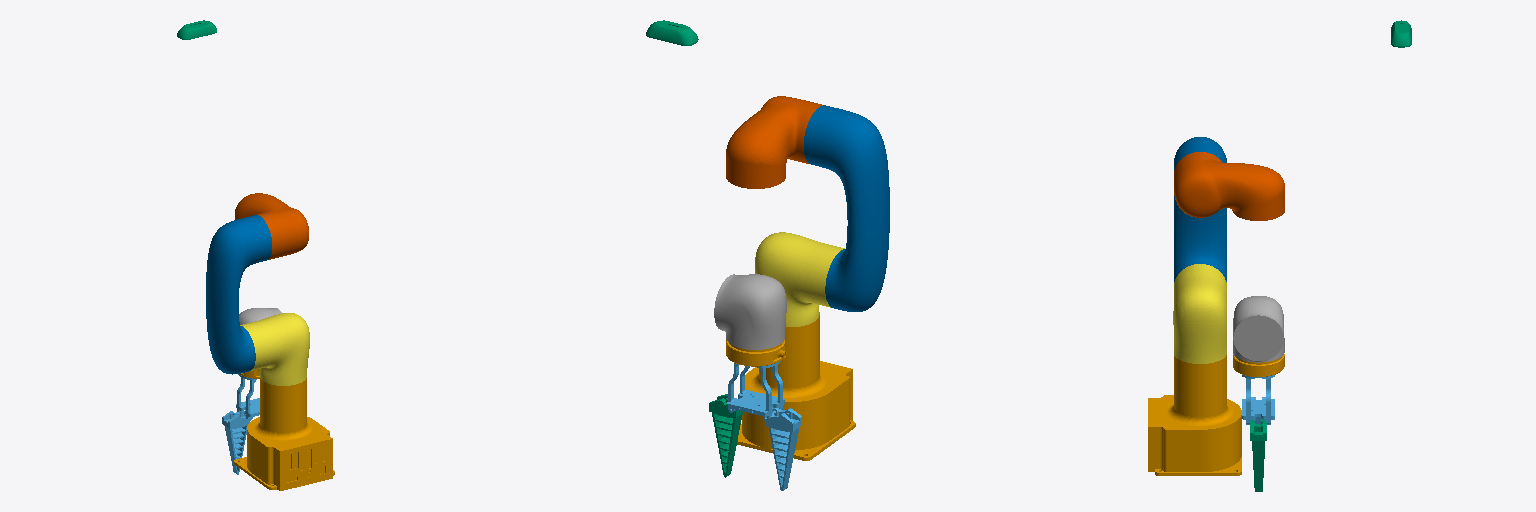
URDF robot description (lite_6_robotarm):
<?xml version="1.0" ?>
<robot name="lite_6_robotarm">

<material name="silver">
  <color rgba="0.700 0.700 0.700 1.000"/>
</material>

<link name="base_link">
  <inertial>
    <origin xyz="-1.4819862268024002e-06 -0.00020774933500536933 0.06315172999266203" rpy="0 0 0"/>
    <mass value="12.96819491810422"/>
    <inertia ixx="0.04245115685707855" iyy="0.03958711946350989" izz="0.026256756827603374" ixy="-1.3246006420518412e-06" iyz="-0.002653322519647819" ixz="-6.396562934922565e-07"/>
  </inertial>
  <visual>
    <origin xyz="0 0 0" rpy="0 0 0"/>
    <geometry>
      <mesh filename="meshes/base_link.stl" scale="0.001 0.001 0.001"/>
    </geometry>
    <material name="silver"/>
    <material/>
  </visual>
  <collision>
    <origin xyz="0 0 0" rpy="0 0 0"/>
    <geometry>
      <mesh filename="meshes/base_link.stl" scale="0.001 0.001 0.001"/>
    </geometry>
  </collision>
</link>

<link name="left_finger1">
  <inertial>
    <origin xyz="-0.016649755589227728 0.011001870239480141 -0.02841150300648422" rpy="0 0 0"/>
    <mass value="0.19713513253030895"/>
    <inertia ixx="0.00015875463919208608" iyy="0.00017136843527207574" izz="3.081441906987179e-05" ixy="4.222201108704249e-09" iyz="-8.24694043664951e-09" ixz="-1.4291502258722178e-06"/>
  </inertial>
  <visual>
    <origin xyz="0.0258 -0.083983 -0.07189" rpy="0 0 0"/>
    <geometry>
      <mesh filename="meshes/left_finger1.stl" scale="0.001 0.001 0.001"/>
    </geometry>
    <material name="silver"/>
    <material/>
  </visual>
  <collision>
    <origin xyz="0.0258 -0.083983 -0.07189" rpy="0 0 0"/>
    <geometry>
      <mesh filename="meshes/left_finger1.stl" scale="0.001 0.001 0.001"/>
    </geometry>
  </collision>
</link>

<link name="right_finger1">
  <inertial>
    <origin xyz="0.016649736524671027 0.010999040184855674 -0.02841150300648429" rpy="0 0 0"/>
    <mass value="0.19713513253031012"/>
    <inertia ixx="0.00015875463919208738" iyy="0.00017136843527207682" izz="3.081441906987222e-05" ixy="4.222201108487408e-09" iyz="8.24694043654109e-09" ixz="1.4291502258720551e-06"/>
  </inertial>
  <visual>
    <origin xyz="-0.0262 -0.083983 -0.07189" rpy="0 0 0"/>
    <geometry>
      <mesh filename="meshes/right_finger1.stl" scale="0.001 0.001 0.001"/>
    </geometry>
    <material name="silver"/>
    <material/>
  </visual>
  <collision>
    <origin xyz="-0.0262 -0.083983 -0.07189" rpy="0 0 0"/>
    <geometry>
      <mesh filename="meshes/right_finger1.stl" scale="0.001 0.001 0.001"/>
    </geometry>
  </collision>
</link>

<link name="link_21">
  <inertial>
    <origin xyz="-0.015123860071906185 2.5593691362589543e-06 0.05792607647334416" rpy="0 0 0"/>
    <mass value="6.037125676328531"/>
    <inertia ixx="0.007409450913407611" iyy="0.01105711269112808" izz="0.008596428432760296" ixy="-1.703390557602786e-06" iyz="-1.7606027186162915e-06" ixz="0.0012333184030674585"/>
  </inertial>
  <visual>
    <origin xyz="-0.0 -0.008 -0.173" rpy="0 0 0"/>
    <geometry>
      <mesh filename="meshes/link_21.stl" scale="0.001 0.001 0.001"/>
    </geometry>
    <material name="silver"/>
    <material/>
  </visual>
  <collision>
    <origin xyz="-0.0 -0.008 -0.173" rpy="0 0 0"/>
    <geometry>
      <mesh filename="meshes/link_21.stl" scale="0.001 0.001 0.001"/>
    </geometry>
  </collision>
</link>

<link name="link_31">
  <inertial>
    <origin xyz="-0.024766771950062688 -1.6220963948779255e-08 0.11471132098630415" rpy="0 0 0"/>
    <mass value="8.450151606335128"/>
    <inertia ixx="0.0586124956243681" iyy="0.05987853616620131" izz="0.007960376393872759" ixy="1.6612289243864153e-09" iyz="7.127192395289805e-09" ixz="-0.005489820855790861"/>
  </inertial>
  <visual>
    <origin xyz="0.078 -0.008 -0.243" rpy="0 0 0"/>
    <geometry>
      <mesh filename="meshes/link_31.stl" scale="0.001 0.001 0.001"/>
    </geometry>
    <material name="silver"/>
    <material/>
  </visual>
  <collision>
    <origin xyz="0.078 -0.008 -0.243" rpy="0 0 0"/>
    <geometry>
      <mesh filename="meshes/link_31.stl" scale="0.001 0.001 0.001"/>
    </geometry>
  </collision>
</link>

<link name="link_41">
  <inertial>
    <origin xyz="0.04266107113703172 0.07195926329740293 -0.0011071877313075795" rpy="0 0 0"/>
    <mass value="3.1266058733611786"/>
    <inertia ixx="0.004216497892854831" iyy="0.0025925805332278617" izz="0.004432592057271385" ixy="-0.0006145655473512936" iyz="0.0004038169742403702" ixz="-3.480702166943359e-05"/>
  </inertial>
  <visual>
    <origin xyz="0.045 -0.008 -0.443" rpy="0 0 0"/>
    <geometry>
      <mesh filename="meshes/link_41.stl" scale="0.001 0.001 0.001"/>
    </geometry>
    <material name="silver"/>
    <material/>
  </visual>
  <collision>
    <origin xyz="0.045 -0.008 -0.443" rpy="0 0 0"/>
    <geometry>
      <mesh filename="meshes/link_41.stl" scale="0.001 0.001 0.001"/>
    </geometry>
  </collision>
</link>

<link name="link_51">
  <inertial>
    <origin xyz="0.02518806394514212 -5.202933294479184e-07 -0.09770534814377974" rpy="0 0 0"/>
    <mass value="9.415324412121745"/>
    <inertia ixx="0.03174606440787653" iyy="0.03899306351965948" izz="0.015081744665439559" ixy="2.2377047716529153e-07" iyz="-1.847902088569775e-07" ixz="0.01035372451802729"/>
  </inertial>
  <visual>
    <origin xyz="0.0003 -0.095 -0.408" rpy="0 0 0"/>
    <geometry>
      <mesh filename="meshes/link_51.stl" scale="0.001 0.001 0.001"/>
    </geometry>
    <material name="silver"/>
    <material/>
  </visual>
  <collision>
    <origin xyz="0.0003 -0.095 -0.408" rpy="0 0 0"/>
    <geometry>
      <mesh filename="meshes/link_51.stl" scale="0.001 0.001 0.001"/>
    </geometry>
  </collision>
</link>

<link name="link_61">
  <inertial>
    <origin xyz="-0.03808287255784253 2.18282484643062e-07 -0.0016448277556807278" rpy="0 0 0"/>
    <mass value="3.198235745543407"/>
    <inertia ixx="0.002815447770259466" iyy="0.0029866862987641685" izz="0.002626395753246802" ixy="1.3494393247899701e-08" iyz="-1.5062826264067297e-09" ixz="-4.928553672503685e-05"/>
  </inertial>
  <visual>
    <origin xyz="-0.041217 -0.094983 -0.21589" rpy="0 0 0"/>
    <geometry>
      <mesh filename="meshes/link_61.stl" scale="0.001 0.001 0.001"/>
    </geometry>
    <material name="silver"/>
    <material/>
  </visual>
  <collision>
    <origin xyz="-0.041217 -0.094983 -0.21589" rpy="0 0 0"/>
    <geometry>
      <mesh filename="meshes/link_61.stl" scale="0.001 0.001 0.001"/>
    </geometry>
  </collision>
</link>

<link name="link_71">
  <inertial>
    <origin xyz="0.00012991172119495537 -6.044617565784116e-05 -0.011116005669908113" rpy="0 0 0"/>
    <mass value="0.6627466143452483"/>
    <inertia ixx="0.00028716382427402404" iyy="0.0002850704520966363" izz="0.0005151451067073685" ixy="-2.3262996892472998e-07" iyz="-4.842404329047367e-07" ixz="2.8539443565770084e-07"/>
  </inertial>
  <visual>
    <origin xyz="-0.0002 -0.094983 -0.17489" rpy="0 0 0"/>
    <geometry>
      <mesh filename="meshes/link_71.stl" scale="0.001 0.001 0.001"/>
    </geometry>
    <material name="silver"/>
    <material/>
  </visual>
  <collision>
    <origin xyz="-0.0002 -0.094983 -0.17489" rpy="0 0 0"/>
    <geometry>
      <mesh filename="meshes/link_71.stl" scale="0.001 0.001 0.001"/>
    </geometry>
  </collision>
</link>

<link name="gripper_mount1">
  <inertial>
    <origin xyz="-0.0004174510117322854 4.5521217123534186e-07 -0.03664819684752249" rpy="0 0 0"/>
    <mass value="0.21065401289475527"/>
    <inertia ixx="0.0002669591608645758" iyy="0.0003047580589882726" izz="0.0001309293590587169" ixy="-3.0429382381781955e-07" iyz="3.903127820947816e-18" ixz="2.826970614363487e-06"/>
  </inertial>
  <visual>
    <origin xyz="-0.0002 -0.094983 -0.15139" rpy="0 0 0"/>
    <geometry>
      <mesh filename="meshes/gripper_mount1.stl" scale="0.001 0.001 0.001"/>
    </geometry>
    <material name="silver"/>
    <material/>
  </visual>
  <collision>
    <origin xyz="-0.0002 -0.094983 -0.15139" rpy="0 0 0"/>
    <geometry>
      <mesh filename="meshes/gripper_mount1.stl" scale="0.001 0.001 0.001"/>
    </geometry>
  </collision>
</link>

<link name="camera_top1">
  <inertial>
    <origin xyz="0.003631352481101799 0.30000013218307503 0.5284777989886029" rpy="0 0 0"/>
    <mass value="0.2214912391329027"/>
    <inertia ixx="1.8778615289510858e-05" iyy="7.698046392073943e-05" izz="8.623466765011675e-05" ixy="7.072412521618755e-10" iyz="1.9017094843309934e-10" ixz="1.6252159380455468e-07"/>
  </inertial>
  <visual>
    <origin xyz="-0.0 -0.008 -0.173" rpy="0 0 0"/>
    <geometry>
      <mesh filename="meshes/camera_top1.stl" scale="0.001 0.001 0.001"/>
    </geometry>
    <material name="silver"/>
    <material/>
  </visual>
  <collision>
    <origin xyz="-0.0 -0.008 -0.173" rpy="0 0 0"/>
    <geometry>
      <mesh filename="meshes/camera_top1.stl" scale="0.001 0.001 0.001"/>
    </geometry>
  </collision>
</link>

<joint name="right_gripper" type="continuous">
  <origin xyz="-0.026 -0.011 -0.0795" rpy="0 0 0"/>
  <parent link="gripper_mount1"/>
  <child link="left_finger1"/>
  <axis xyz="-0.0 1.0 -0.0"/>
</joint>
<transmission name="right_gripper_tran">
  <type>transmission_interface/SimpleTransmission</type>
  <joint name="right_gripper">
    <hardwareInterface>PositionJointInterface</hardwareInterface>
  </joint>
  <actuator name="right_gripper_actr">
    <hardwareInterface>PositionJointInterface</hardwareInterface>
    <mechanicalReduction>1</mechanicalReduction>
  </actuator>
</transmission>

<joint name="left_gripper" type="continuous">
  <origin xyz="0.026 -0.011 -0.0795" rpy="0 0 0"/>
  <parent link="gripper_mount1"/>
  <child link="right_finger1"/>
  <axis xyz="-0.0 1.0 -0.0"/>
</joint>
<transmission name="left_gripper_tran">
  <type>transmission_interface/SimpleTransmission</type>
  <joint name="left_gripper">
    <hardwareInterface>PositionJointInterface</hardwareInterface>
  </joint>
  <actuator name="left_gripper_actr">
    <hardwareInterface>PositionJointInterface</hardwareInterface>
    <mechanicalReduction>1</mechanicalReduction>
  </actuator>
</transmission>

<joint name="base_link2" type="continuous">
  <origin xyz="0.0 0.008 0.173" rpy="0 0 0"/>
  <parent link="base_link"/>
  <child link="link_21"/>
  <axis xyz="0.0 -0.0 1.0"/>
</joint>
<transmission name="base_link2_tran">
  <type>transmission_interface/SimpleTransmission</type>
  <joint name="base_link2">
    <hardwareInterface>PositionJointInterface</hardwareInterface>
  </joint>
  <actuator name="base_link2_actr">
    <hardwareInterface>PositionJointInterface</hardwareInterface>
    <mechanicalReduction>1</mechanicalReduction>
  </actuator>
</transmission>

<joint name="link2_link3" type="continuous">
  <origin xyz="-0.078 0.0 0.07" rpy="0 0 0"/>
  <parent link="link_21"/>
  <child link="link_31"/>
  <axis xyz="-1.0 0.0 0.0"/>
</joint>
<transmission name="link2_link3_tran">
  <type>transmission_interface/SimpleTransmission</type>
  <joint name="link2_link3">
    <hardwareInterface>PositionJointInterface</hardwareInterface>
  </joint>
  <actuator name="link2_link3_actr">
    <hardwareInterface>PositionJointInterface</hardwareInterface>
    <mechanicalReduction>1</mechanicalReduction>
  </actuator>
</transmission>

<joint name="link3_link4" type="continuous">
  <origin xyz="0.033 0.0 0.2" rpy="0 0 0"/>
  <parent link="link_31"/>
  <child link="link_41"/>
  <axis xyz="1.0 -0.0 -0.0"/>
</joint>
<transmission name="link3_link4_tran">
  <type>transmission_interface/SimpleTransmission</type>
  <joint name="link3_link4">
    <hardwareInterface>PositionJointInterface</hardwareInterface>
  </joint>
  <actuator name="link3_link4_actr">
    <hardwareInterface>PositionJointInterface</hardwareInterface>
    <mechanicalReduction>1</mechanicalReduction>
  </actuator>
</transmission>

<joint name="link4_link5" type="continuous">
  <origin xyz="0.0447 0.087 -0.035" rpy="0 0 0"/>
  <parent link="link_41"/>
  <child link="link_51"/>
  <axis xyz="-0.0 -0.0 -1.0"/>
</joint>
<transmission name="link4_link5_tran">
  <type>transmission_interface/SimpleTransmission</type>
  <joint name="link4_link5">
    <hardwareInterface>PositionJointInterface</hardwareInterface>
  </joint>
  <actuator name="link4_link5_actr">
    <hardwareInterface>PositionJointInterface</hardwareInterface>
    <mechanicalReduction>1</mechanicalReduction>
  </actuator>
</transmission>

<joint name="link5_link6" type="continuous">
  <origin xyz="0.041517 -1.7e-05 -0.19211" rpy="0 0 0"/>
  <parent link="link_51"/>
  <child link="link_61"/>
  <axis xyz="-1.0 -0.0 -0.0"/>
</joint>
<transmission name="link5_link6_tran">
  <type>transmission_interface/SimpleTransmission</type>
  <joint name="link5_link6">
    <hardwareInterface>PositionJointInterface</hardwareInterface>
  </joint>
  <actuator name="link5_link6_actr">
    <hardwareInterface>PositionJointInterface</hardwareInterface>
    <mechanicalReduction>1</mechanicalReduction>
  </actuator>
</transmission>

<joint name="link6_link7" type="continuous">
  <origin xyz="-0.041017 0.0 -0.041" rpy="0 0 0"/>
  <parent link="link_61"/>
  <child link="link_71"/>
  <axis xyz="0.0 -0.0 -1.0"/>
</joint>
<transmission name="link6_link7_tran">
  <type>transmission_interface/SimpleTransmission</type>
  <joint name="link6_link7">
    <hardwareInterface>PositionJointInterface</hardwareInterface>
  </joint>
  <actuator name="link6_link7_actr">
    <hardwareInterface>PositionJointInterface</hardwareInterface>
    <mechanicalReduction>1</mechanicalReduction>
  </actuator>
</transmission>

<joint name="link7_gripper" type="continuous">
  <origin xyz="0.0 0.0 -0.0235" rpy="0 0 0"/>
  <parent link="link_71"/>
  <child link="gripper_mount1"/>
  <axis xyz="0.0 -0.0 -1.0"/>
</joint>
<transmission name="link7_gripper_tran">
  <type>transmission_interface/SimpleTransmission</type>
  <joint name="link7_gripper">
    <hardwareInterface>PositionJointInterface</hardwareInterface>
  </joint>
  <actuator name="link7_gripper_actr">
    <hardwareInterface>PositionJointInterface</hardwareInterface>
    <mechanicalReduction>1</mechanicalReduction>
  </actuator>
</transmission>

<joint name="base_camera" type="fixed">
  <origin xyz="0.0 0.008 0.173" rpy="0 0 0"/>
  <parent link="base_link"/>
  <child link="camera_top1"/>
</joint>

</robot>

--- Facts derived from the render (not from the file) ---
The picture shows the robot from 3 angles, left to right: view 1: azimuth 30°, elevation 25°; view 2: azimuth 150°, elevation 25°; view 3: azimuth 270°, elevation 25°; orthographic projection.
Model lite_6_robotarm with 11 links and 10 joints (9 continuous, 1 fixed), rooted at base_link, posed all joints at 0.
Visible links, largest first — view 1: base_link, link_31, link_21, link_41, left_finger1, gripper_mount1, camera_top1; view 2: link_31, base_link, link_41, link_21, link_61, gripper_mount1, left_finger1, right_finger1, link_71, camera_top1; view 3: base_link, link_41, link_21, link_31, link_61, gripper_mount1, right_finger1, link_71.
Boxes of the visible links, <box> form: base_link: <box>234,378,334,490</box>; link_31: <box>206,215,271,374</box>; link_21: <box>240,313,309,385</box>; link_41: <box>235,193,308,259</box>; left_finger1: <box>222,411,249,474</box>; gripper_mount1: <box>236,374,259,420</box>; camera_top1: <box>177,20,216,39</box>; link_31: <box>804,105,889,311</box>; base_link: <box>737,315,855,460</box>; link_41: <box>726,96,822,188</box>; link_21: <box>755,232,844,326</box>; link_61: <box>714,274,786,349</box>; gripper_mount1: <box>727,360,784,420</box>; left_finger1: <box>766,408,801,490</box>; right_finger1: <box>709,394,743,477</box>; link_71: <box>726,339,786,366</box>; camera_top1: <box>646,20,698,45</box>; base_link: <box>1148,355,1241,475</box>; link_41: <box>1174,152,1284,220</box>; link_21: <box>1173,264,1226,363</box>; link_31: <box>1174,137,1226,281</box>; link_61: <box>1233,296,1284,362</box>; gripper_mount1: <box>1242,375,1274,424</box>; right_finger1: <box>1250,419,1266,491</box>; link_71: <box>1233,354,1284,376</box>.
Size in the robot's own frame: 0.209 by 0.3935 by 0.7463 metres.
10 mesh visuals loaded from 11 distinct referenced files (10 binary STL); not drawn: 1 (reference not matched to a file when rendering).